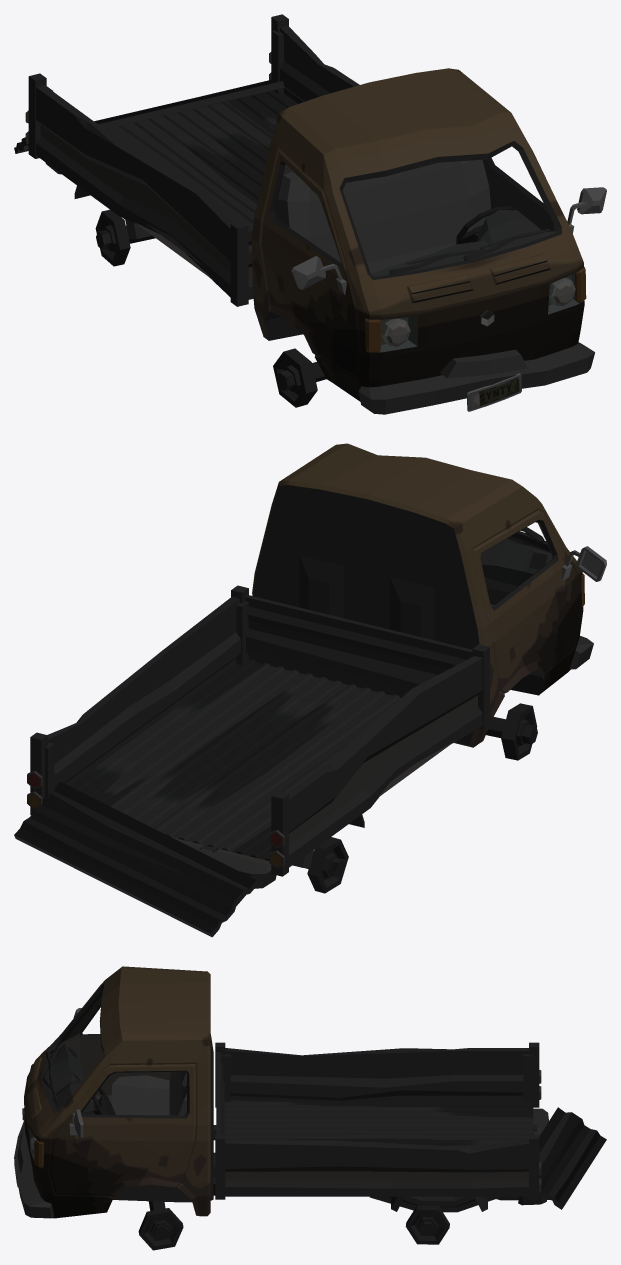
Rendered from SM_Veh_Pickup_Small_Destroyed_01.fbx.
3 renders of one model, top to bottom at view 1: azimuth 30°, elevation 25°; view 2: azimuth 150°, elevation 25°; view 3: azimuth 270°, elevation 25°, orthographic. The views are drawn at different scales.
Parts seen in each view (by area): view 1: SM_Veh_Pickup_Small_Destroyed_01; view 2: SM_Veh_Pickup_Small_Destroyed_01; view 3: SM_Veh_Pickup_Small_Destroyed_01.
Part boxes in pixels (<box>): SM_Veh_Pickup_Small_Destroyed_01: <box>14,14,606,414</box>; SM_Veh_Pickup_Small_Destroyed_01: <box>14,443,606,937</box>; SM_Veh_Pickup_Small_Destroyed_01: <box>14,966,606,1250</box>.
Bounding box in the file's own units: 243 × 195 × 511.
